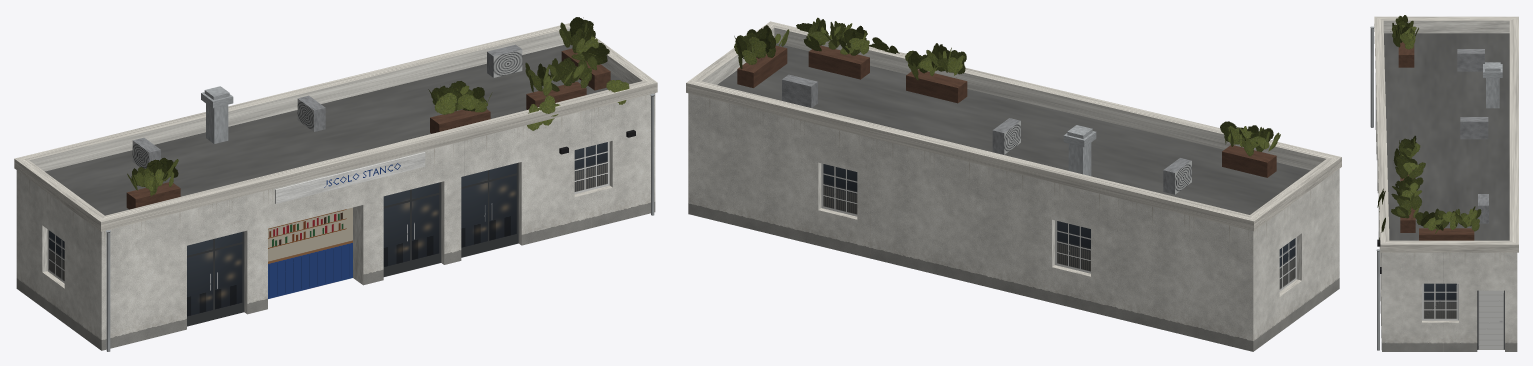
The model's file is SM_Molo_Edificio_C_v2_LOD1.fbx.
3 renders of one model, left to right at view 1: azimuth 30°, elevation 25°; view 2: azimuth 150°, elevation 25°; view 3: azimuth 270°, elevation 25°, orthographic. The views are drawn at different scales.
Parts seen in each view (by area): view 1: SM_Molo_Edificio_C_v2_LOD1; view 2: SM_Molo_Edificio_C_v2_LOD1; view 3: SM_Molo_Edificio_C_v2_LOD1.
Boxes of the visible parts, x1=… form: SM_Molo_Edificio_C_v2_LOD1: x1=14, y1=17, x2=657, y2=351; SM_Molo_Edificio_C_v2_LOD1: x1=686, y1=17, x2=1341, y2=351; SM_Molo_Edificio_C_v2_LOD1: x1=1370, y1=15, x2=1518, y2=351.
Size of the model in its own units: 1749 by 483 by 485.
Materials: 2 (2 with a texture image).
